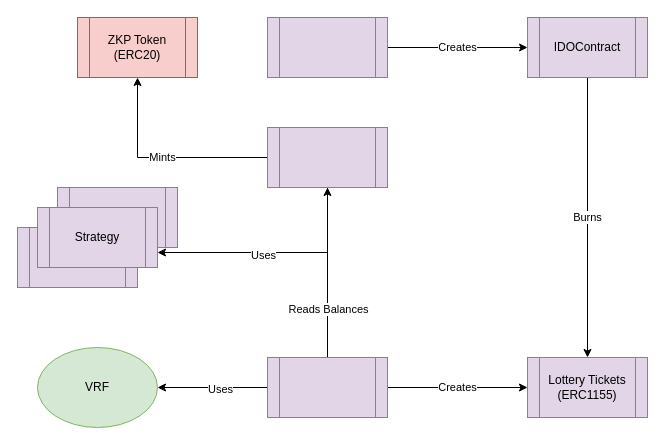
The diagram is 665 pixels wide and 445 high, and some of its shapes have lost their labels. The shapes that lost their labels are listed below. From the top down, each one's box as (x1, y1, x2, y2) in pixels, then its label:
(266, 16, 388, 78): IDOFactory
(266, 126, 388, 188): Vault
(266, 356, 388, 418): LotteryController
